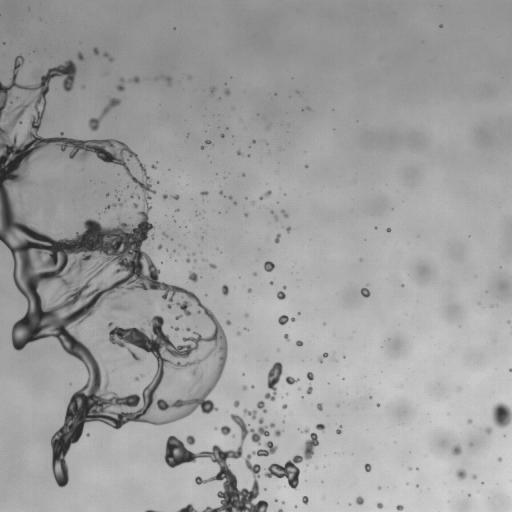droplet: (164, 415, 277, 511), (264, 432, 318, 490), (492, 402, 511, 428), (278, 315, 295, 325), (285, 375, 299, 385), (243, 409, 256, 419), (188, 271, 199, 282), (257, 401, 267, 413), (220, 425, 231, 435), (456, 469, 466, 480), (116, 78, 124, 91), (264, 261, 274, 271), (451, 445, 461, 455), (360, 288, 370, 297), (186, 435, 195, 445), (316, 423, 325, 432), (276, 291, 285, 299), (356, 496, 364, 505), (222, 284, 228, 295), (130, 76, 139, 83), (306, 372, 313, 381), (274, 233, 280, 243), (295, 340, 303, 347), (485, 426, 492, 434), (364, 463, 371, 471), (306, 385, 312, 394), (336, 425, 342, 434), (281, 210, 288, 217), (93, 47, 99, 55), (77, 52, 83, 60), (274, 430, 282, 436), (302, 496, 308, 504), (316, 403, 322, 410), (376, 502, 383, 508), (396, 505, 403, 511), (284, 333, 289, 341), (132, 203, 138, 209), (201, 191, 208, 196), (172, 194, 179, 199), (209, 263, 216, 268), (234, 400, 239, 407), (302, 428, 309, 433), (224, 89, 229, 95), (269, 422, 275, 427), (210, 87, 215, 92), (162, 194, 167, 199), (286, 227, 291, 232), (226, 320, 231, 325), (282, 404, 287, 409), (467, 419, 472, 424), (205, 140, 211, 144), (237, 150, 241, 155), (125, 184, 129, 189), (158, 244, 162, 249), (186, 327, 191, 331), (242, 385, 246, 390), (497, 457, 502, 461), (472, 474, 476, 479), (151, 165, 155, 169), (220, 134, 224, 137), (228, 196, 232, 199), (251, 200, 254, 204), (53, 206, 56, 210), (163, 233, 167, 236), (186, 259, 190, 262), (253, 272, 256, 276), (244, 313, 248, 316), (244, 327, 248, 330), (278, 509, 283, 511), (201, 146, 204, 149), (219, 191, 222, 194), (106, 193, 109, 196), (387, 228, 390, 231), (270, 281, 273, 284), (283, 286, 286, 289), (237, 332, 240, 335), (112, 369, 115, 372), (376, 403, 379, 406), (408, 467, 411, 470), (509, 368, 511, 372), (439, 25, 442, 27), (252, 140, 255, 142), (175, 209, 178, 211), (244, 214, 247, 216), (203, 259, 206, 261), (248, 289, 251, 291), (369, 396, 372, 398), (87, 433, 89, 436), (469, 443, 472, 445), (82, 86, 84, 88), (305, 165, 307, 167), (46, 183, 48, 185), (234, 202, 236, 204), (491, 305, 493, 307), (175, 334, 177, 336), (121, 365, 123, 367), (117, 366, 119, 368), (251, 385, 253, 387), (457, 388, 459, 390), (378, 487, 380, 489), (275, 499, 277, 501)
ligament: (0, 55, 227, 487), (88, 97, 120, 131), (264, 362, 282, 400), (177, 503, 198, 511), (318, 352, 328, 362), (260, 190, 271, 199), (103, 52, 113, 61), (162, 76, 171, 84), (134, 374, 144, 381), (271, 211, 278, 220), (101, 359, 105, 365), (146, 509, 158, 511)
